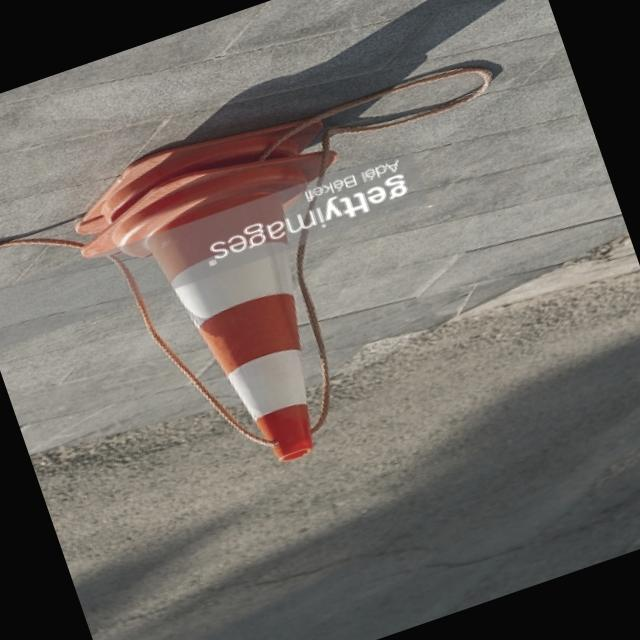cone: (16, 76, 451, 550)
